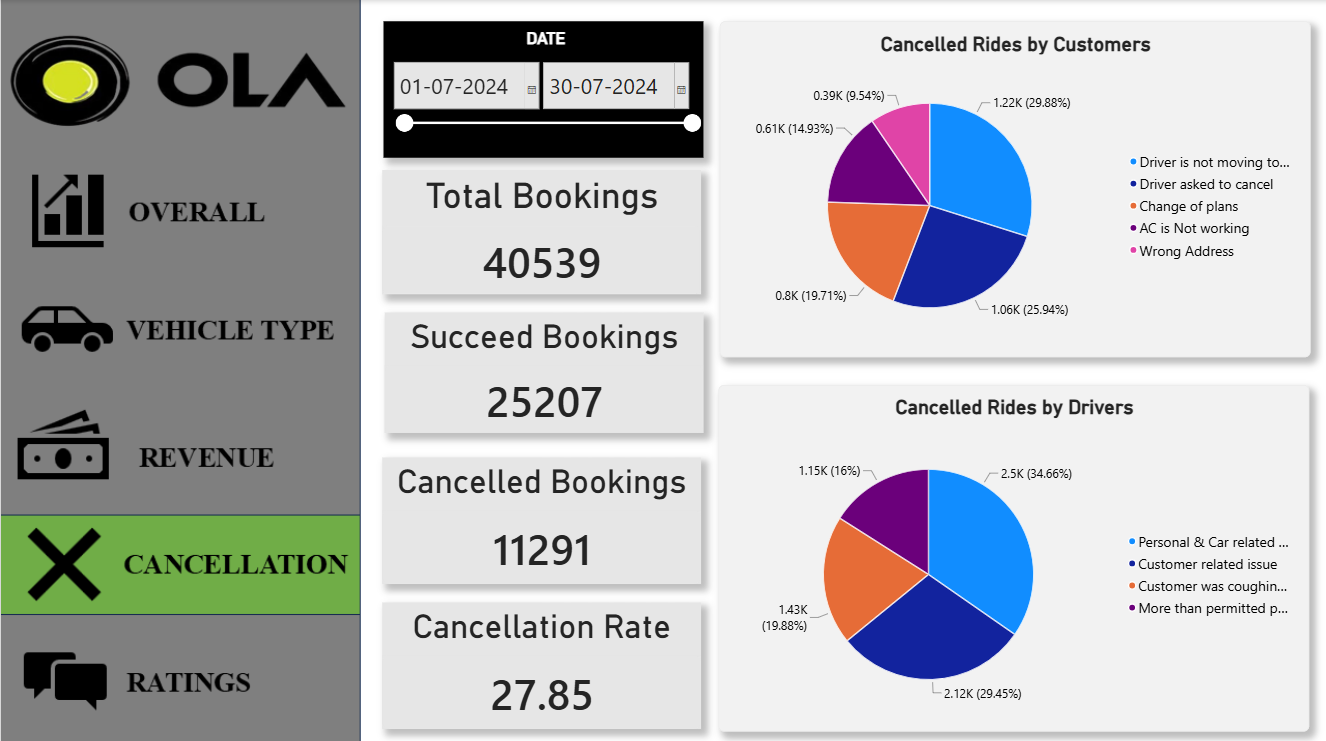

What the dashboard file says about the page in this screenshot:
{"tool":"powerbi","page":{"name":"cancellation","canvas":[1920,1080],"ordinal":3},"visuals":[{"type":"actionButton","box":[0,407.2,519.4,148.4],"z":0},{"type":"actionButton","box":[0,586.3,519.4,152],"z":1000},{"type":"actionButton","box":[0,910.3,519.4,146.6],"z":2000},{"type":"actionButton","box":[0,213.5,519.4,161.1],"z":3000},{"type":"pieChart","title":"Cancelled Rides by Customers","fields":{"Category":["Bookings-40000-Rows-July.Canceled_Rides_by_Customer"],"Y":["CountNonNull(Bookings-40000-Rows-July.Canceled_Rides_by_Customer)"]},"box":[1041.1,29.9,855.5,486.4],"z":4000},{"type":"pieChart","title":"Cancelled Rides by Drivers","fields":{"Category":["Bookings-40000-Rows-July.Canceled_Rides_by_Driver"],"Y":["CountNonNull(Bookings-40000-Rows-July.Canceled_Rides_by_Driver)"]},"box":[1038.9,556.8,855.5,501.3],"z":5000},{"type":"slicer","title":"DATE","fields":{"Values":["Bookings-40000-Rows-July.Date"]},"box":[553.8,30.8,463.3,197.3],"z":6000},{"type":"cardVisual","title":"Total Bookings","fields":{"Data":["Count(Bookings-40000-Rows-July.Booking_ID)"]},"box":[552.1,247,462,180.1],"z":7000},{"type":"cardVisual","title":"Succeed Bookings","fields":{"Data":["CountNonNull(Bookings-40000-Rows-July.Booking_Value)"]},"box":[555,453.3,462,174.3],"z":8000},{"type":"cardVisual","title":"Cancelled Bookings","fields":{"Data":["CountNonNull(Bookings-40000-Rows-July.Booking_Value)"]},"box":[552.1,662.5,462,183.1],"z":9000},{"type":"cardVisual","title":"Cancellation Rate","fields":{"Data":["Bookings-40000-Rows-July.CancelledPercantage"]},"box":[552.1,871.7,462,183.1],"z":10000}]}

Visuals, with their boxes in screenshot pixels (x1, y1, x2, y2), scaled from the page's 1920x1080 canvas onto the 1326x741 screenshot:
actionButton: l=0, t=279, r=359, b=381
actionButton: l=0, t=402, r=359, b=507
actionButton: l=0, t=625, r=359, b=725
actionButton: l=0, t=146, r=359, b=257
"Cancelled Rides by Customers" pieChart: l=719, t=21, r=1310, b=354
"Cancelled Rides by Drivers" pieChart: l=717, t=382, r=1308, b=726
"DATE" slicer: l=382, t=21, r=702, b=157
"Total Bookings" cardVisual: l=381, t=169, r=700, b=293
"Succeed Bookings" cardVisual: l=383, t=311, r=702, b=431
"Cancelled Bookings" cardVisual: l=381, t=455, r=700, b=580
"Cancellation Rate" cardVisual: l=381, t=598, r=700, b=724
